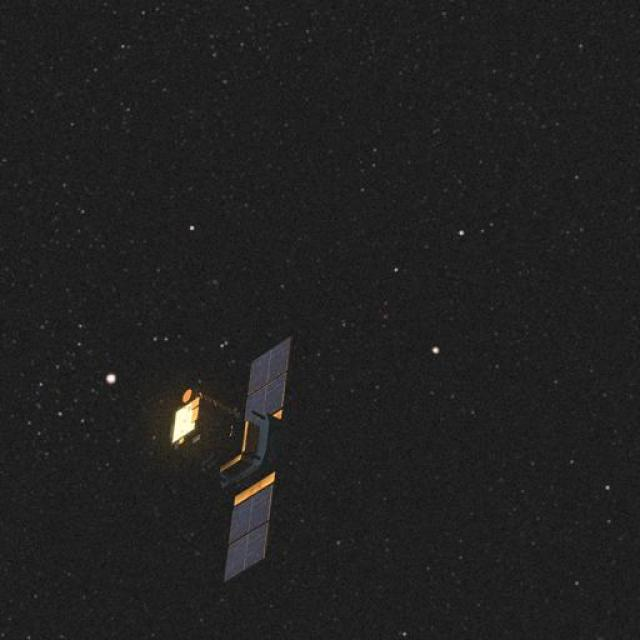soho: (121, 291, 318, 602)
